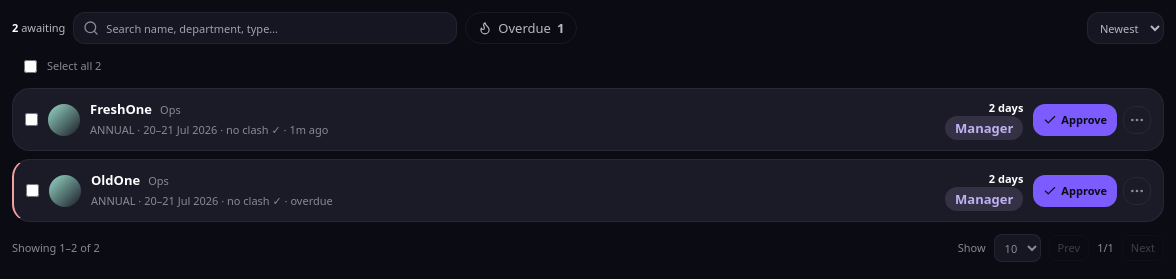
Scenario: ApprovalWorkspace › Overdue lens narrows to overdue items
The image size is (1176, 279).
What coordinates should you click on to do the following:
click the button "Overdue 1"
I would click on:
 (521, 28)
Its box is [465,12,577,44].
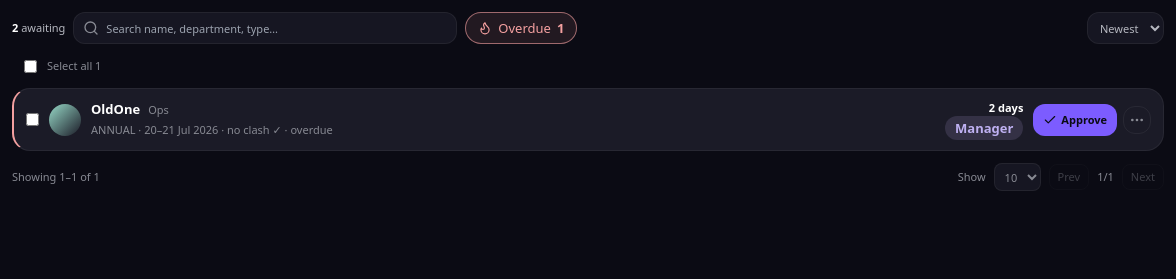
expect the text "OldOne" is shown: met, box [91,99,140,119]
expect the button "FreshOne" is gone: met
